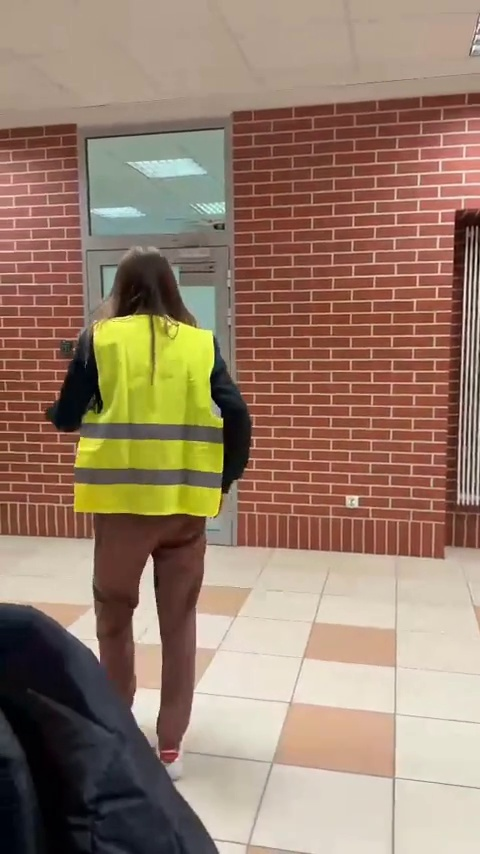vest: (45, 246, 257, 773)
